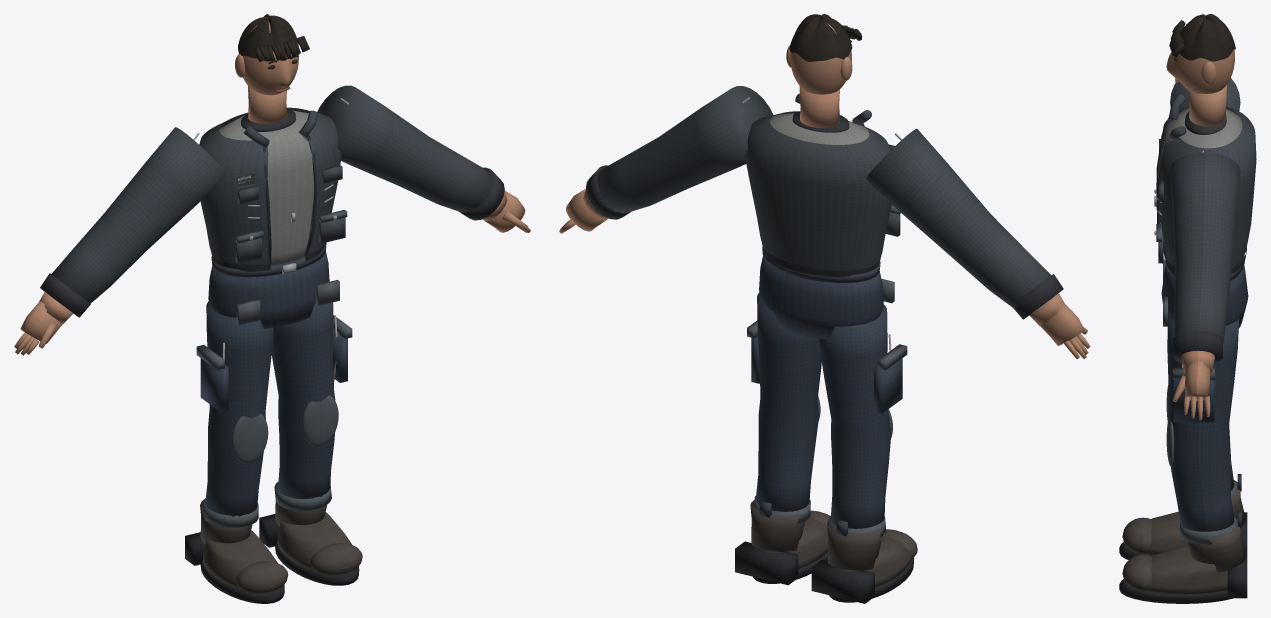
File: ProjectZ_SurvivorMale_Urban_UNRIGGED.glb
The picture shows the model from 3 angles, left to right: view 1: azimuth 30°, elevation 25°; view 2: azimuth 150°, elevation 25°; view 3: azimuth 270°, elevation 25°; orthographic projection. The views are drawn at different scales.
Visible parts, largest first — view 1: CLOTH_Jacket_L_Sleeve, CLOTH_Jacket_R_Sleeve, CLOTH_Pants_L_Leg, CLOTH_Pants_R_Leg, CLOTH_Jacket_OpenFrontShell, CLOTH_Shirt_Torso, CLOTH_Pants_HipAndSeat, BOOT_R_MainUpper, BOOT_L_MainUpper, SKIN_Head_SculptedFace, HAIR_ShortLayeredCap, CLOTH_Pants_R_KneePanel (+16 smaller); view 2: CLOTH_Jacket_OpenFrontShell, CLOTH_Jacket_L_Sleeve, CLOTH_Pants_L_Leg, CLOTH_Pants_R_Leg, CLOTH_Jacket_R_Sleeve, CLOTH_Pants_HipAndSeat, HAIR_ShortLayeredCap, BOOT_R_HeelGuard, BOOT_L_HeelGuard, BOOT_L_Shaft, BOOT_R_Shaft, SKIN_Head_SculptedFace (+11 smaller); view 3: CLOTH_Jacket_R_Sleeve, CLOTH_Pants_R_Leg, CLOTH_Jacket_OpenFrontShell, BOOT_R_MainUpper, HAIR_ShortLayeredCap, SKIN_Head_SculptedFace, BOOT_R_Shaft, CLOTH_Shirt_Torso, CLOTH_Pants_HipAndSeat, SKIN_Neck, BOOT_L_MainUpper, BOOT_R_RubberSole (+16 smaller).
Boxes of the visible parts, x1,y1,x2,y2 form: CLOTH_Jacket_L_Sleeve: [51, 127, 226, 303]; CLOTH_Jacket_R_Sleeve: [317, 85, 492, 212]; CLOTH_Pants_L_Leg: [205, 301, 273, 516]; CLOTH_Pants_R_Leg: [271, 302, 335, 498]; CLOTH_Jacket_OpenFrontShell: [199, 107, 341, 265]; CLOTH_Shirt_Torso: [219, 110, 313, 265]; CLOTH_Pants_HipAndSeat: [208, 251, 329, 328]; BOOT_R_MainUpper: [277, 512, 351, 573]; BOOT_L_MainUpper: [203, 530, 277, 592]; SKIN_Head_SculptedFace: [238, 21, 298, 95]; HAIR_ShortLayeredCap: [238, 14, 298, 61]; CLOTH_Pants_R_KneePanel: [302, 395, 338, 446]; CLOTH_Jacket_OpenFrontShell: [745, 111, 891, 270]; CLOTH_Jacket_L_Sleeve: [866, 128, 1051, 308]; CLOTH_Pants_L_Leg: [819, 305, 891, 528]; CLOTH_Pants_R_Leg: [756, 292, 821, 511]; CLOTH_Jacket_R_Sleeve: [597, 86, 773, 213]; CLOTH_Pants_HipAndSeat: [759, 257, 883, 339]; HAIR_ShortLayeredCap: [789, 14, 852, 61]; BOOT_R_HeelGuard: [735, 541, 798, 585]; BOOT_L_HeelGuard: [811, 560, 874, 603]; BOOT_L_Shaft: [827, 521, 883, 570]; BOOT_R_Shaft: [750, 500, 804, 551]; SKIN_Head_SculptedFace: [790, 23, 851, 94]; CLOTH_Jacket_R_Sleeve: [1170, 152, 1240, 343]; CLOTH_Pants_R_Leg: [1167, 315, 1238, 531]; CLOTH_Jacket_OpenFrontShell: [1158, 106, 1256, 268]; BOOT_R_MainUpper: [1122, 546, 1227, 594]; HAIR_ShortLayeredCap: [1179, 14, 1235, 61]; SKIN_Head_SculptedFace: [1166, 49, 1234, 93]; BOOT_R_Shaft: [1188, 518, 1245, 572]; CLOTH_Shirt_Torso: [1162, 107, 1242, 155]; CLOTH_Pants_HipAndSeat: [1161, 265, 1248, 328]; SKIN_Neck: [1189, 85, 1226, 126]; BOOT_L_MainUpper: [1122, 511, 1188, 554]; BOOT_R_RubberSole: [1119, 579, 1232, 603].
Bounding box in the file's own units: 1.77 × 1.81 × 0.404.
Materials: 1 (1 with a texture image).
